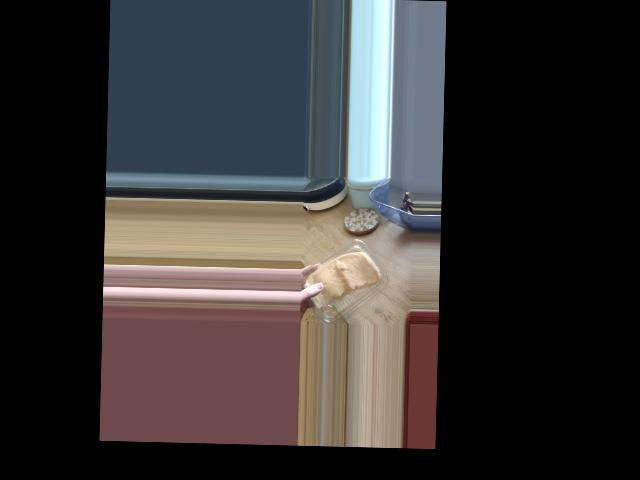cheese: (306, 230, 398, 323)
